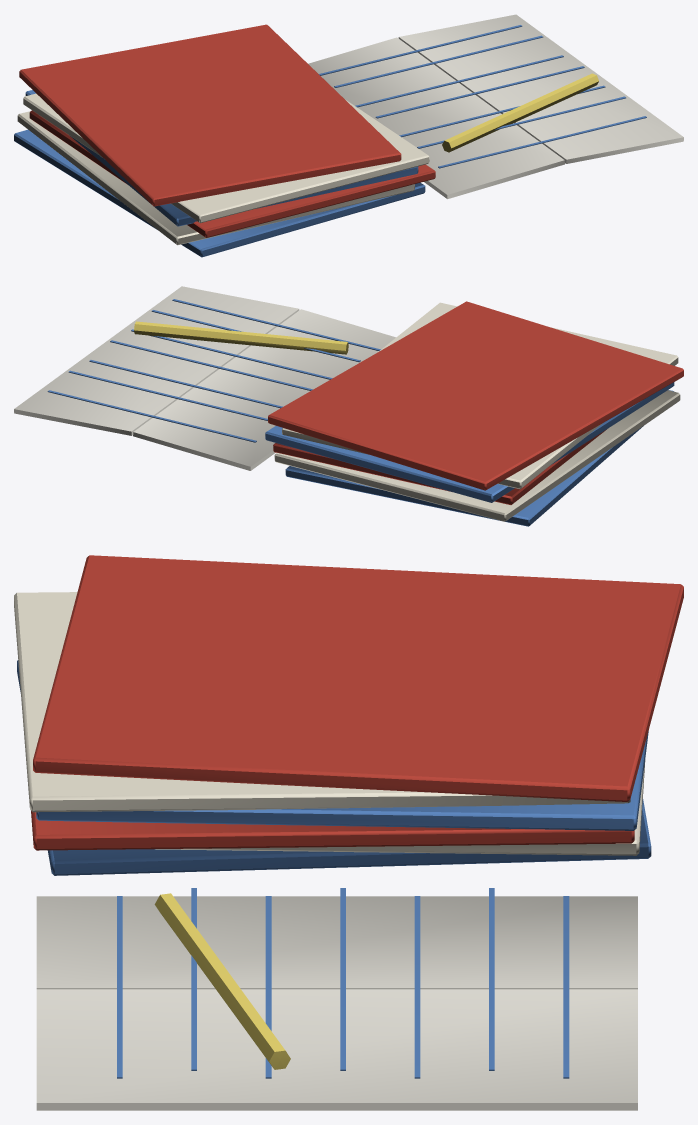
Rendered from exercise_books.glb.
The picture shows the model from 3 angles, top to bottom: view 1: azimuth 30°, elevation 25°; view 2: azimuth 150°, elevation 25°; view 3: azimuth 270°, elevation 25°; orthographic projection. The views are drawn at different scales.
Visible parts, largest first — view 1: static; view 2: static; view 3: static.
Part boxes in pixels (box(x1,y1,x2,y2)): static: box(14, 14, 683, 257); static: box(14, 286, 683, 526); static: box(14, 555, 683, 1110).
Bounding box in the file's own units: 0.3735 × 0.0405 × 0.2341.
